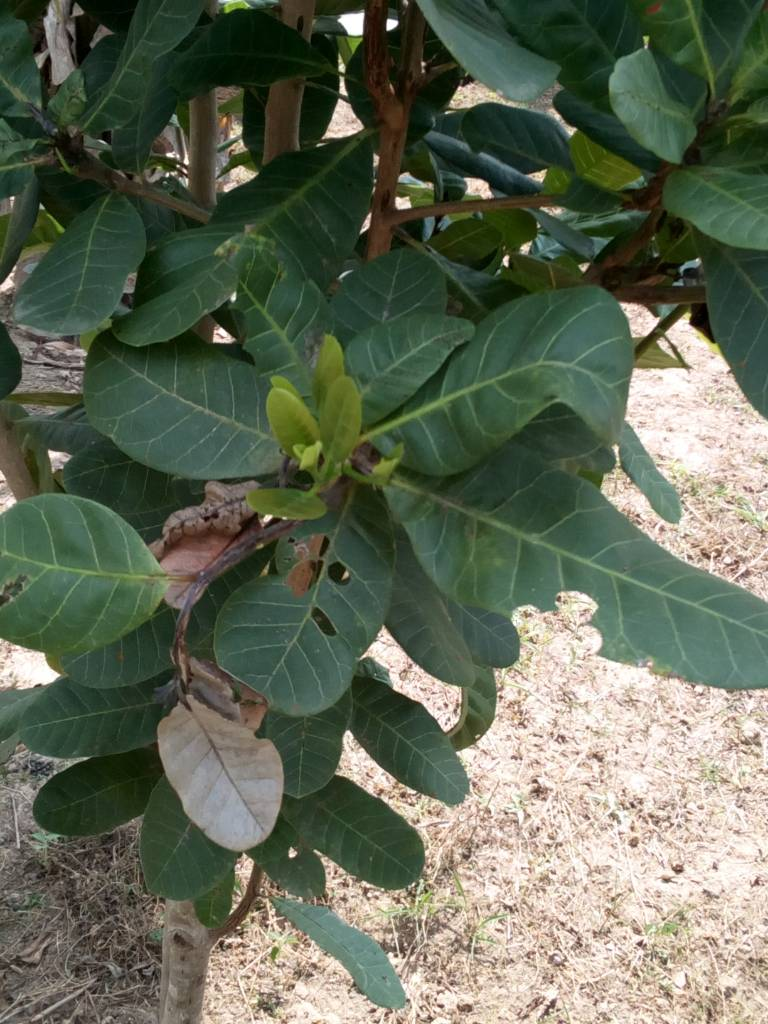Dessèchement des bourgeons: (121, 578, 272, 729)
